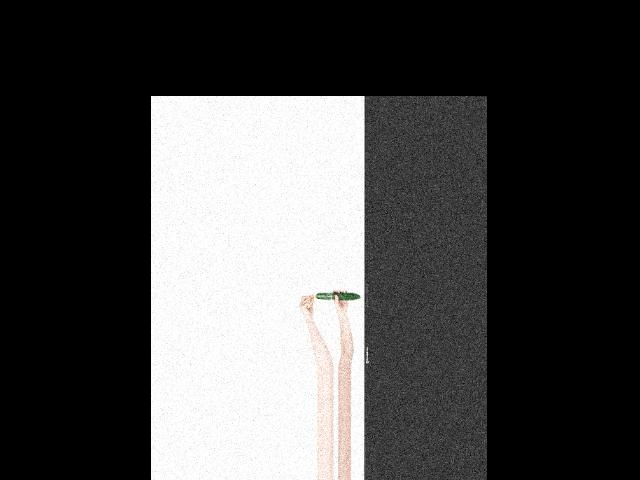cucumber: (316, 292, 361, 299)
